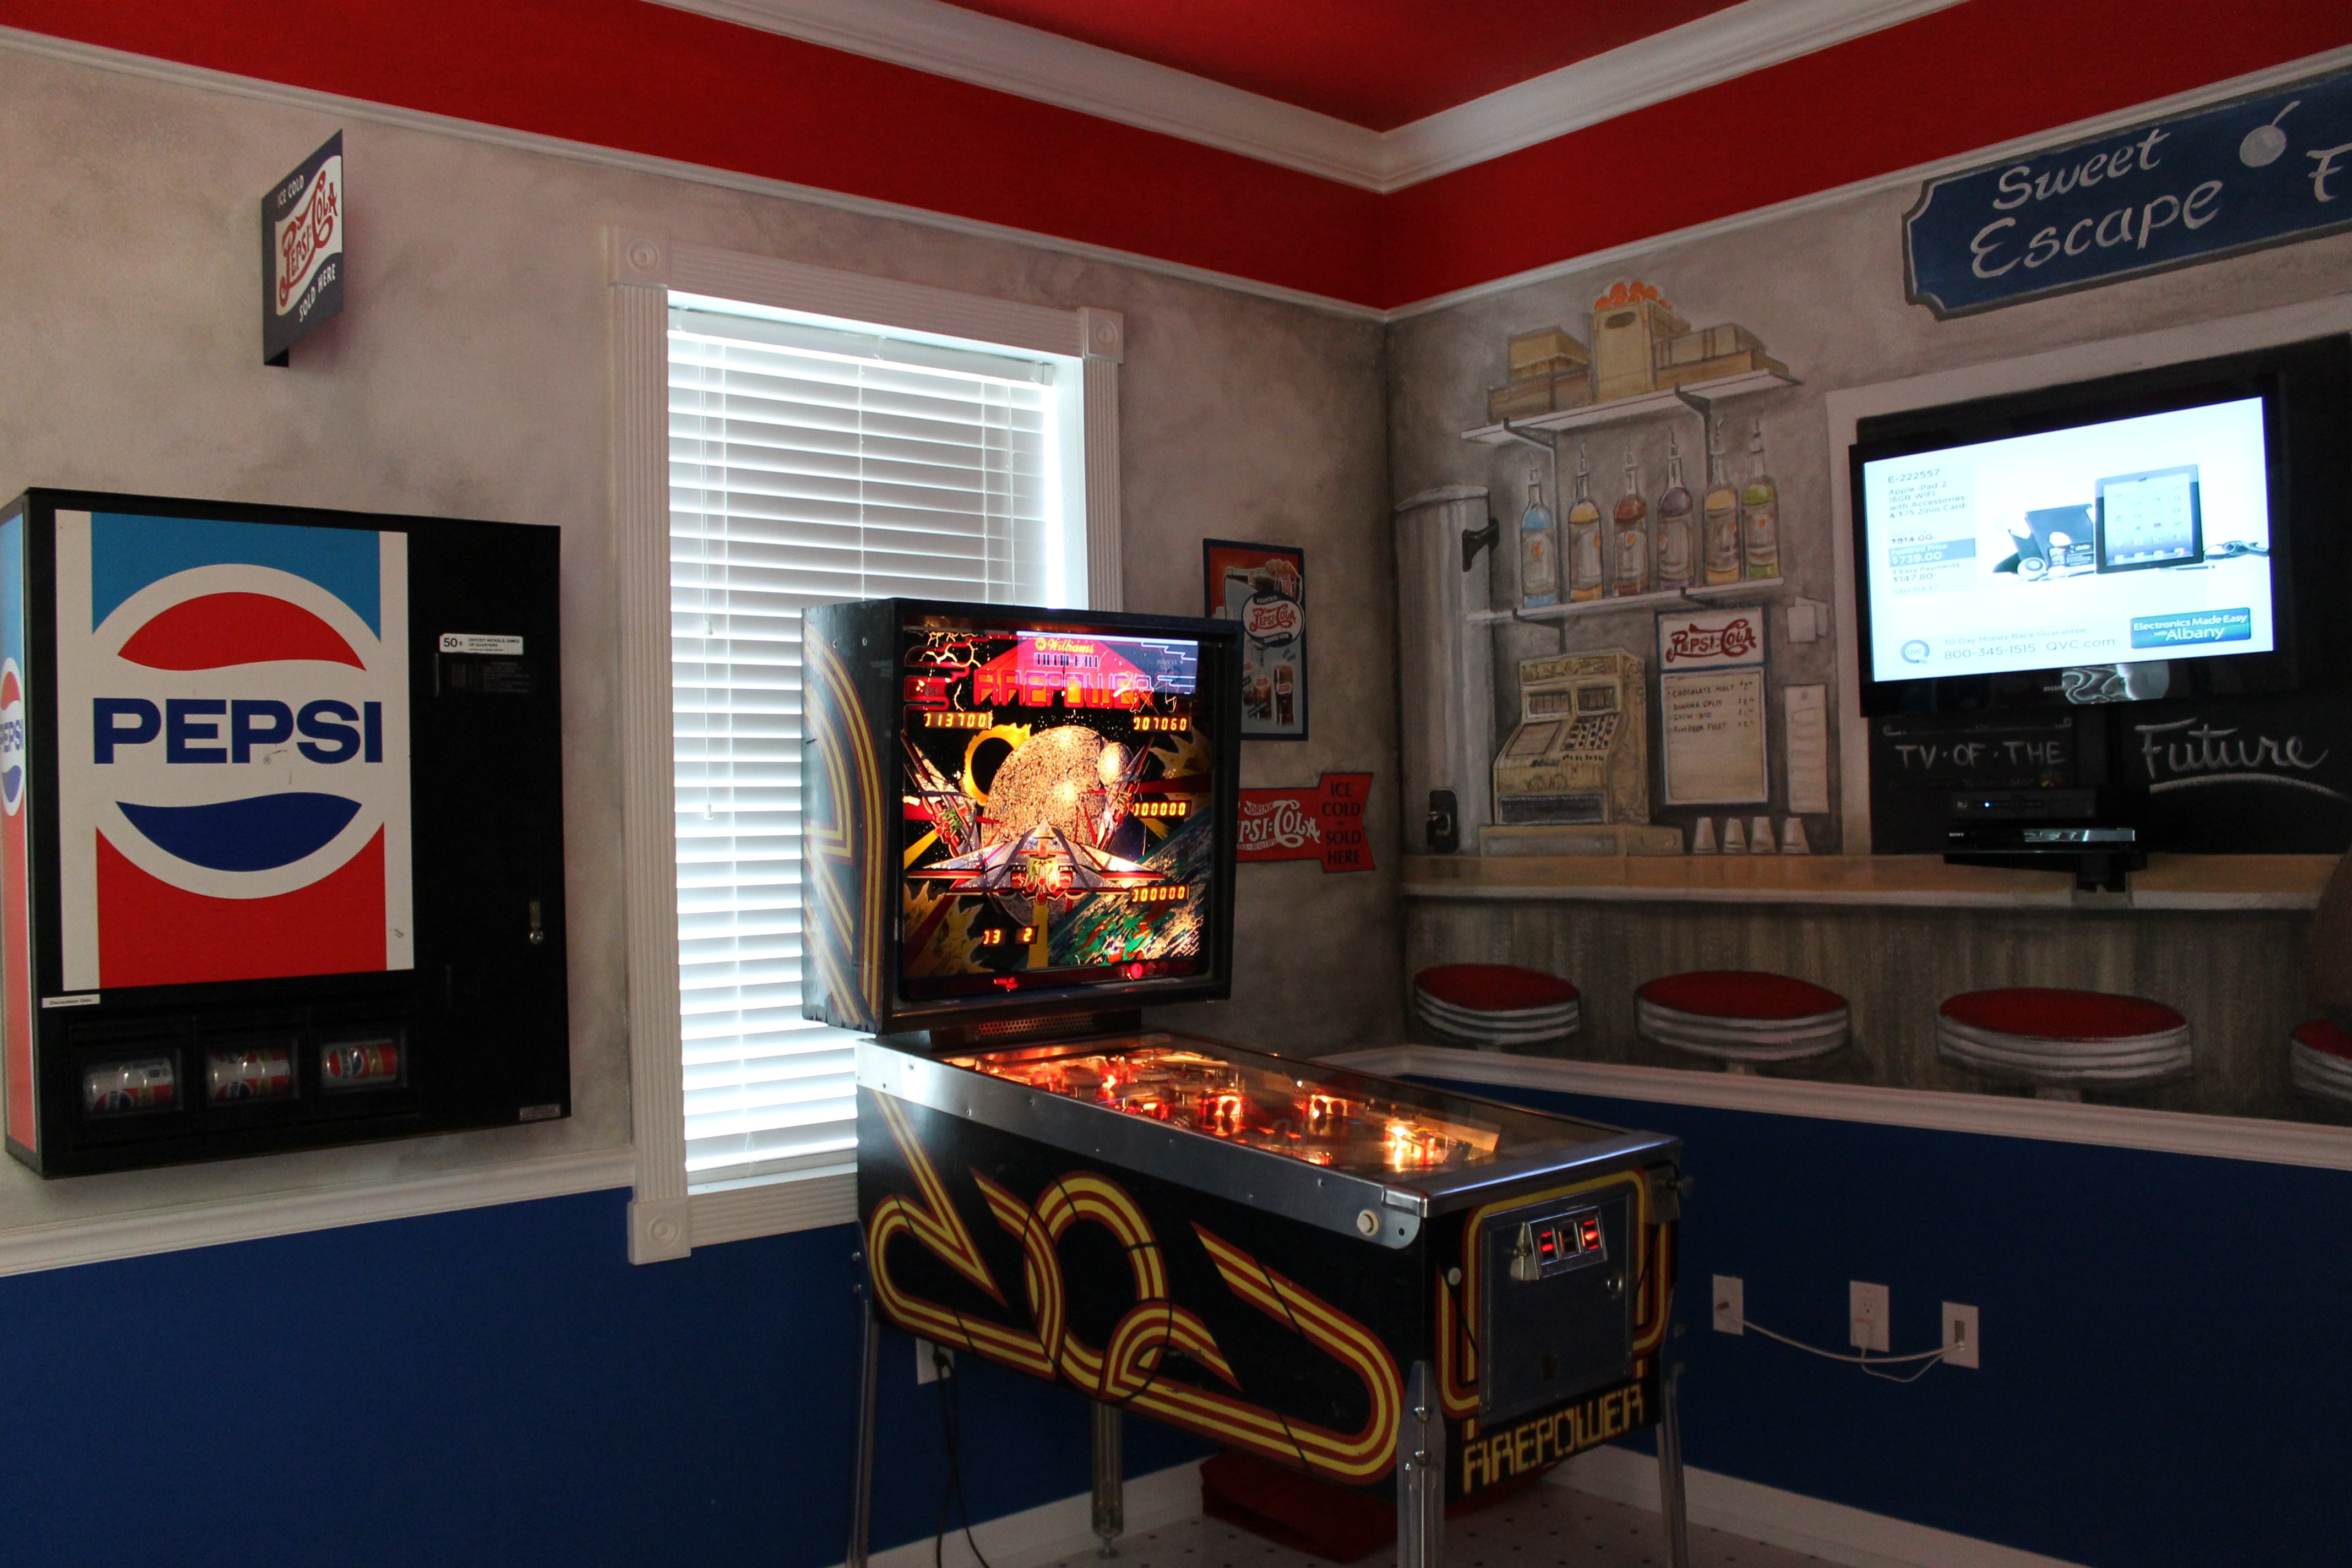pepsi: (94, 590, 399, 871), (94, 597, 399, 871), (94, 590, 378, 871)
